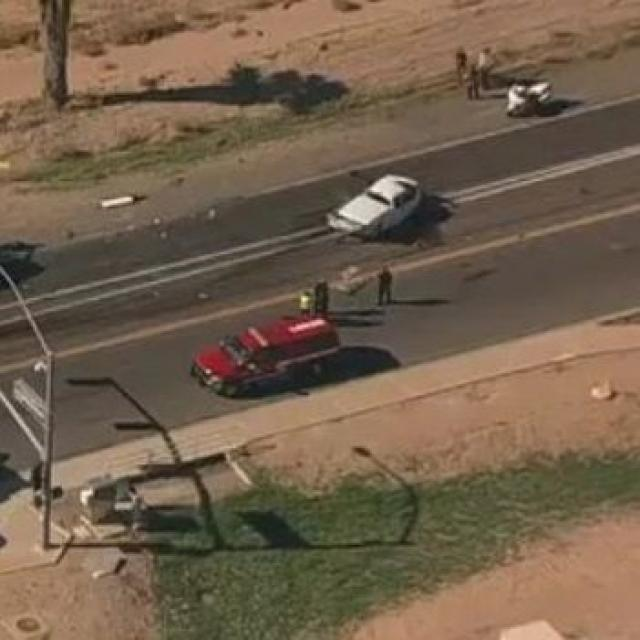traffic_incident: (308, 146, 429, 258)
